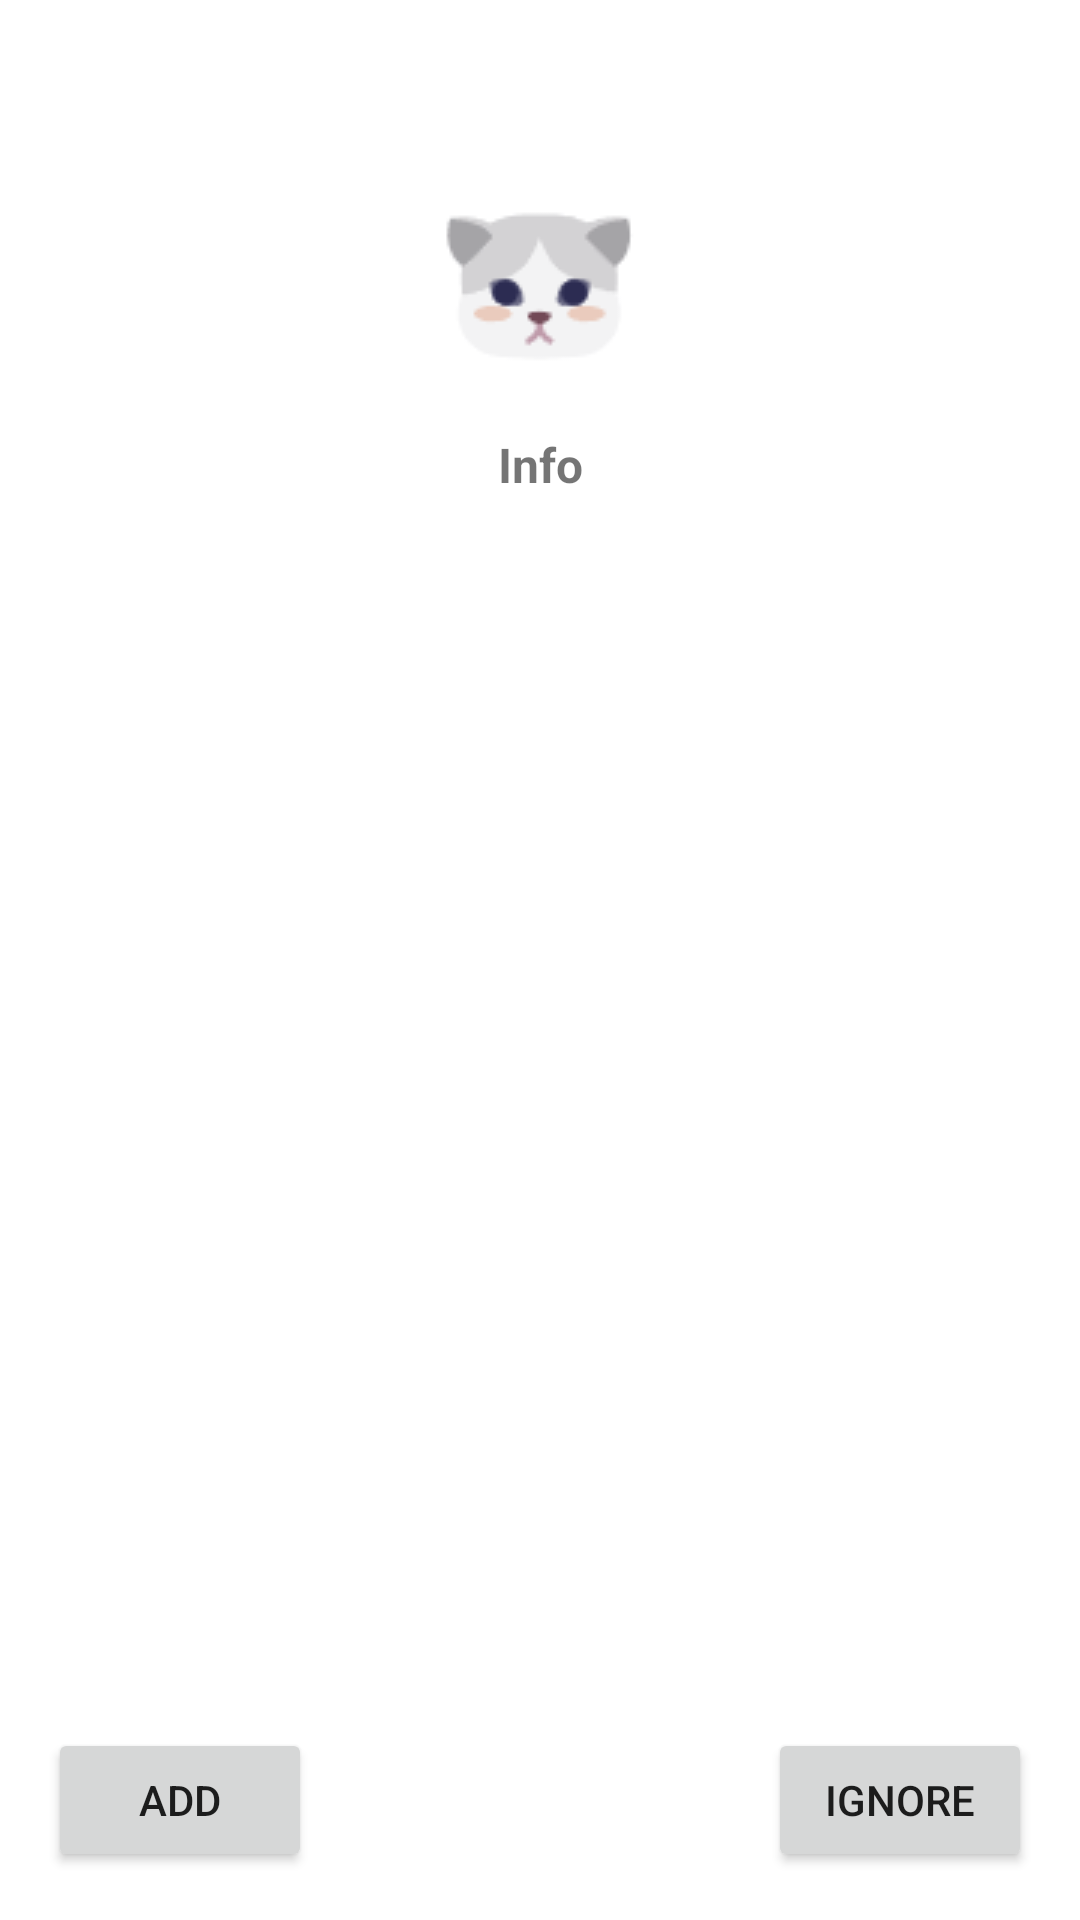

Icons on this 1080px×1920px Android screen, each with its box as (x1, y1, x2, y2):
cat: (447, 215, 631, 346)
